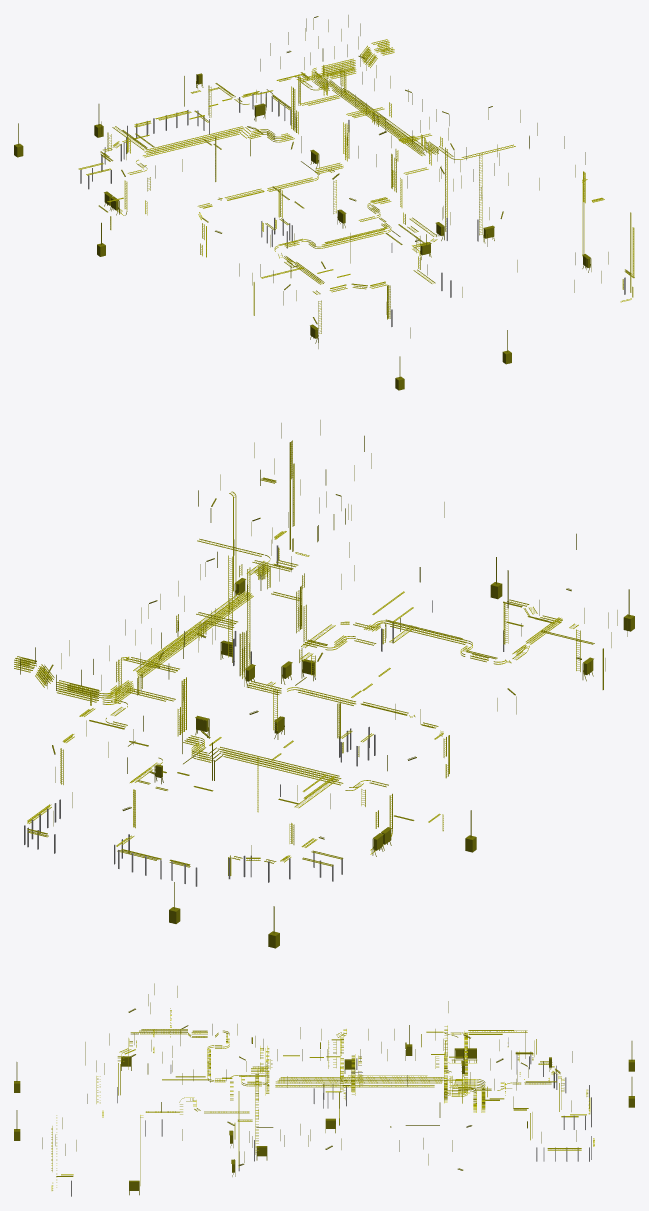
The picture shows the model from 3 angles, top to bottom: view 1: azimuth 30°, elevation 25°; view 2: azimuth 150°, elevation 25°; view 3: azimuth 270°, elevation 25°; orthographic projection. The views are drawn at different scales.
Size of the model in its own units: 64.22 by 26.12 by 109.
